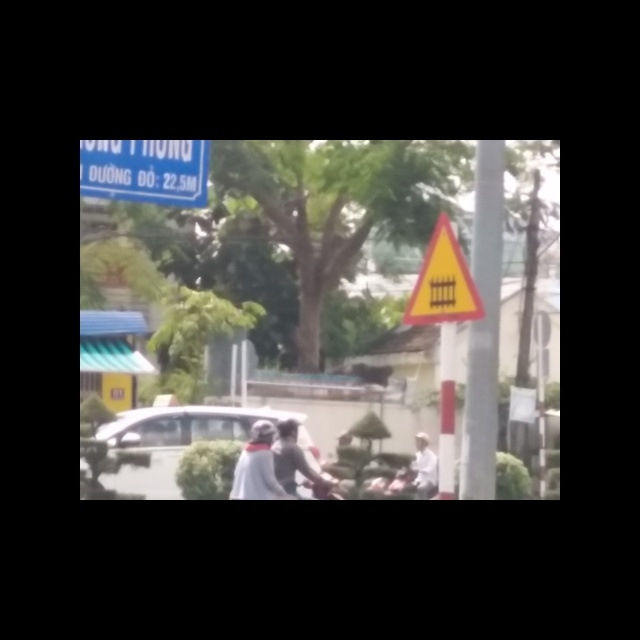Giao nhau với đường sắt có rào chắn: (398, 209, 488, 324)
